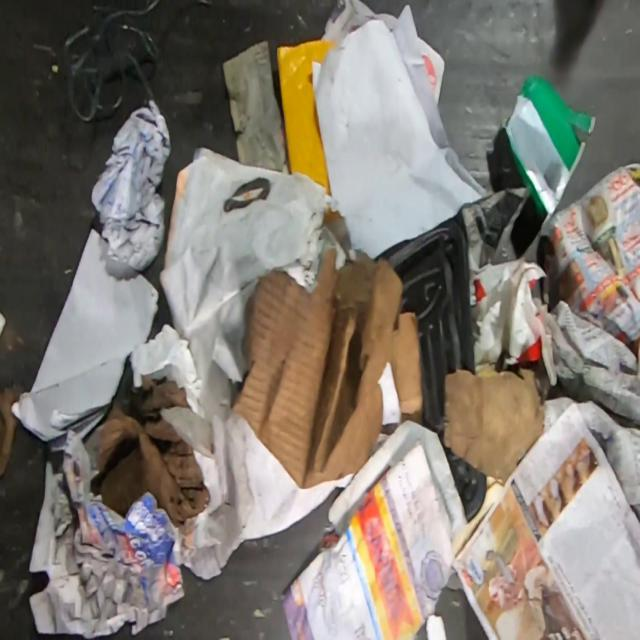cardboard: (235, 249, 421, 490), (87, 365, 209, 526), (445, 365, 541, 483)
rigid_plastic: (382, 218, 486, 524), (503, 75, 596, 221)
